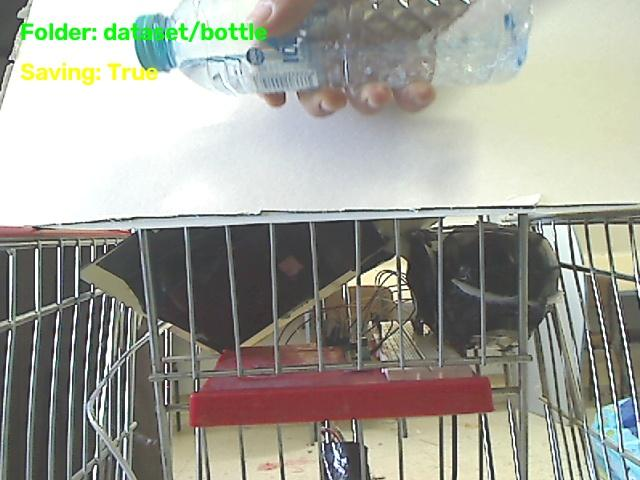Bottle: (125, 0, 531, 94)
